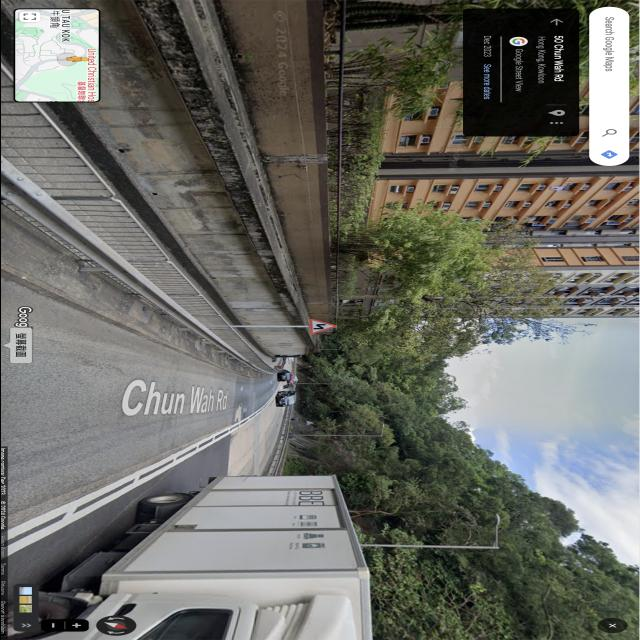Warning-Sign: (309, 319, 337, 334)
